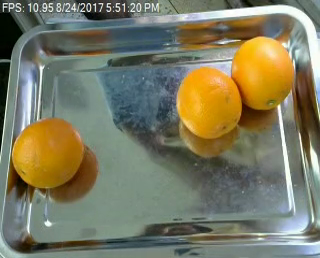Orange: (12, 117, 84, 187), (177, 67, 243, 139), (232, 36, 295, 110)
